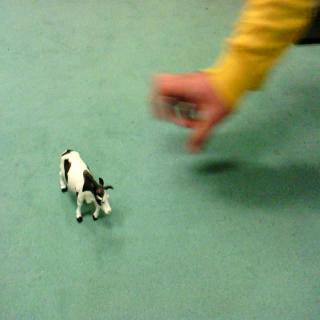cow: (56, 147, 120, 226)
